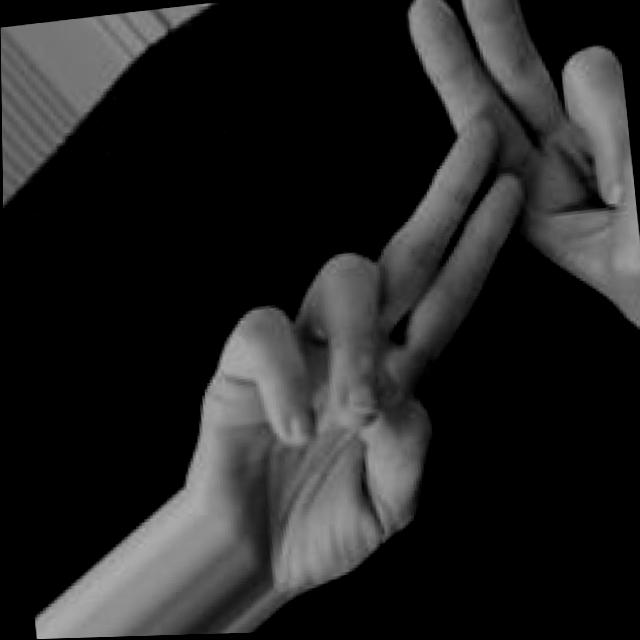K: (135, 0, 640, 608)
